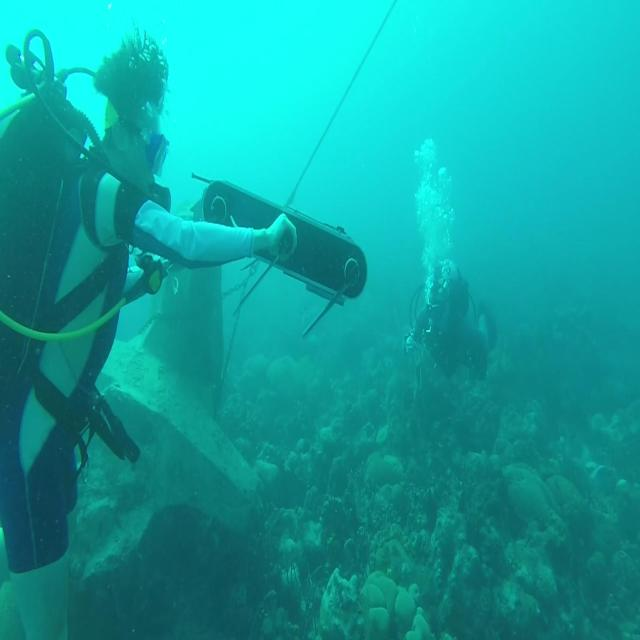human: (0, 24, 298, 638), (404, 257, 497, 385)
